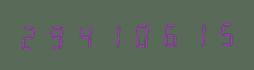five: (206, 18, 232, 48)
four: (71, 20, 97, 50)
nine: (44, 21, 70, 50)
one: (98, 20, 124, 50), (179, 19, 205, 48)
six: (152, 19, 178, 49)
two: (17, 21, 43, 51)
zero: (125, 20, 151, 49)
